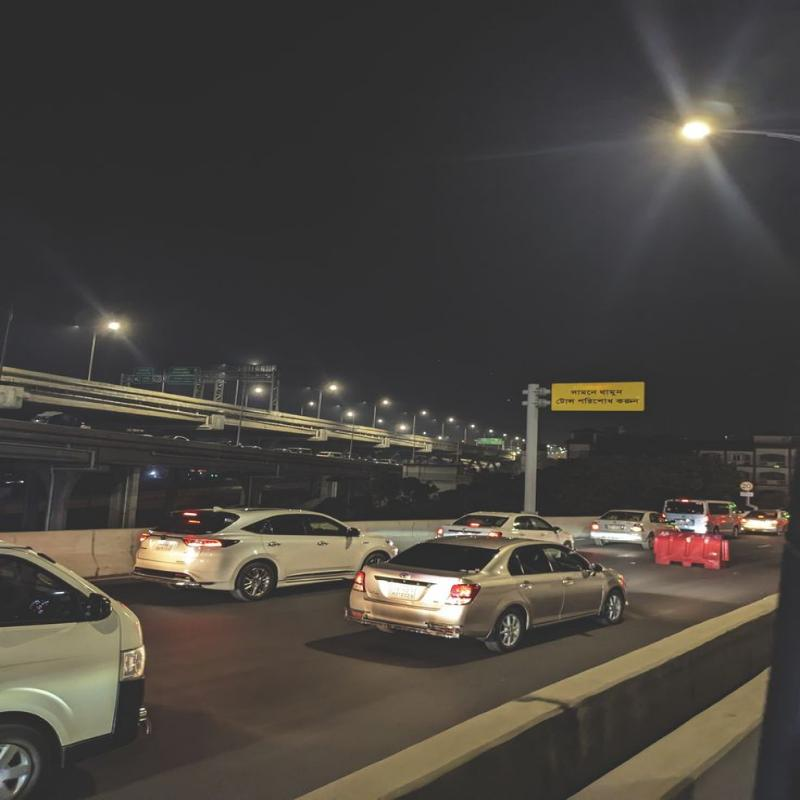license plate on a car: (390, 585, 416, 599), (156, 540, 176, 550)
